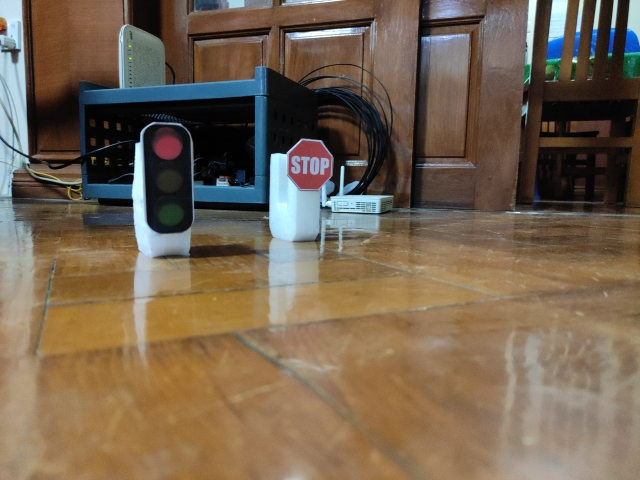Red Traffic Light: (141, 122, 195, 235)
Stop Sign: (287, 137, 334, 190)
